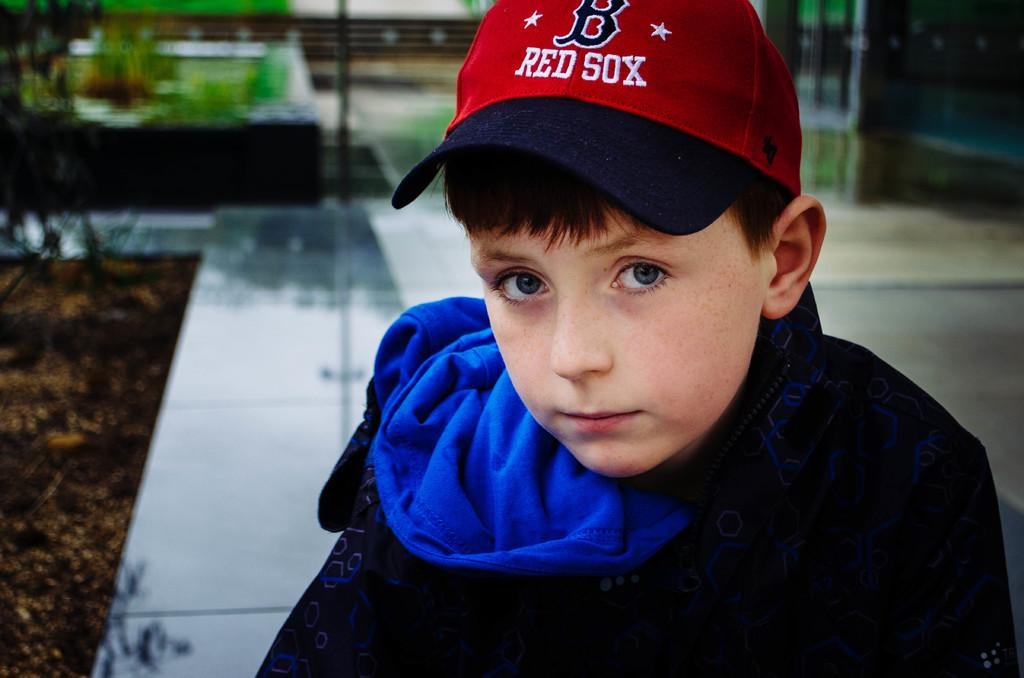Hat: (390, 0, 810, 234)
